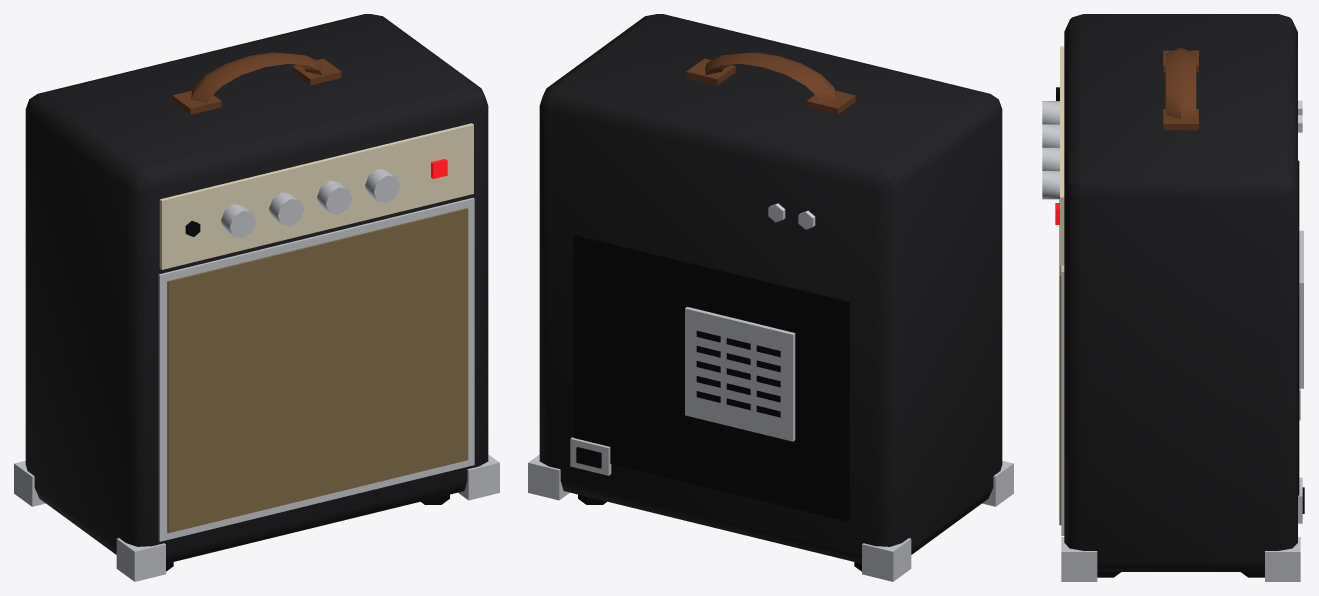
Rendered from AmpA01.glb.
3 views of the same model, side by side, from view 1: azimuth 30°, elevation 25°; view 2: azimuth 150°, elevation 25°; view 3: azimuth 270°, elevation 25° (orthographic).
Visible parts, largest first — view 1: Body_Tolex, Body_GrilleCloth, Body_Panel, Body_Chrome, Body_Leather; view 2: Body_Tolex, Body_Dark, Body_Chrome, Body_Leather; view 3: Body_Tolex, Body_Chrome, Body_Leather, Body_Panel, Body_Dark, Body_GrilleCloth.
Boxes of the visible parts, x1,y1,x2,y2 form: Body_Tolex: [25, 14, 488, 563]; Body_GrilleCloth: [167, 208, 468, 533]; Body_Panel: [159, 123, 473, 269]; Body_Chrome: [14, 169, 499, 581]; Body_Leather: [172, 52, 341, 114]; Body_Tolex: [539, 14, 1002, 563]; Body_Dark: [573, 234, 861, 571]; Body_Chrome: [528, 203, 1013, 581]; Body_Leather: [686, 52, 855, 114]; Body_Tolex: [1064, 14, 1297, 571]; Body_Chrome: [1042, 100, 1303, 581]; Body_Leather: [1163, 47, 1198, 130]; Body_Panel: [1060, 46, 1064, 265]; Body_Dark: [1056, 87, 1304, 577]; Body_GrilleCloth: [1059, 199, 1061, 525].
Bounding box in the file's own units: 3.04 × 3.56 × 1.91.
